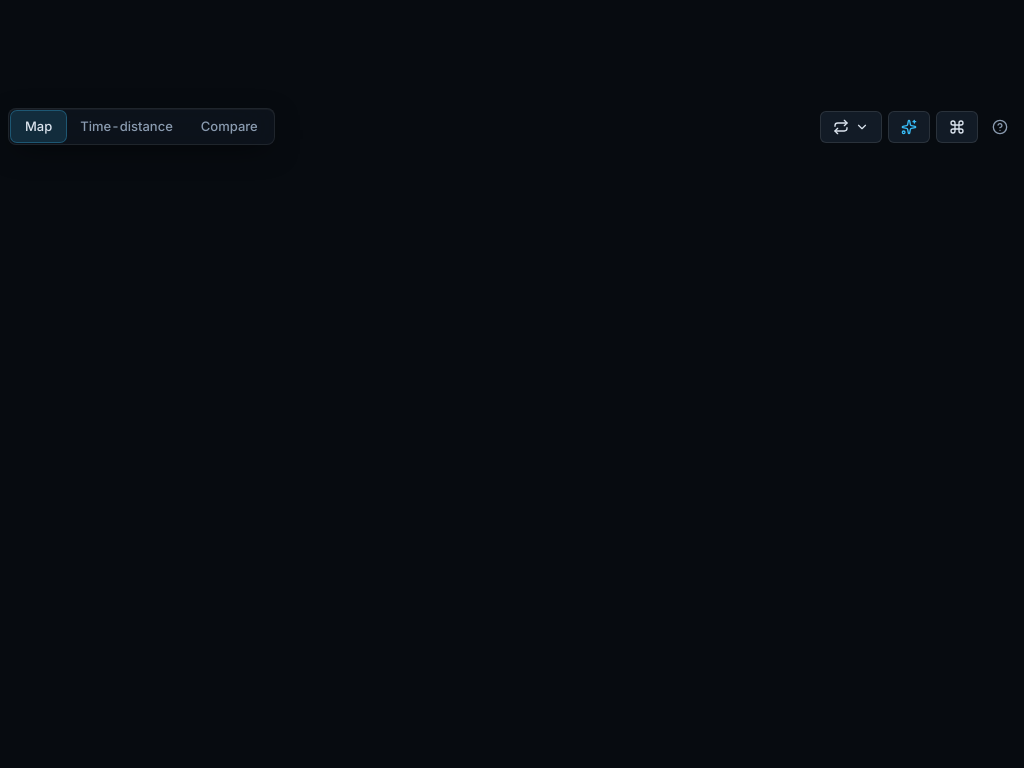
compare tab › shows a progress state while the backend is still computing
Click the tab "Compare": point(229, 126) [187,111,272,142]
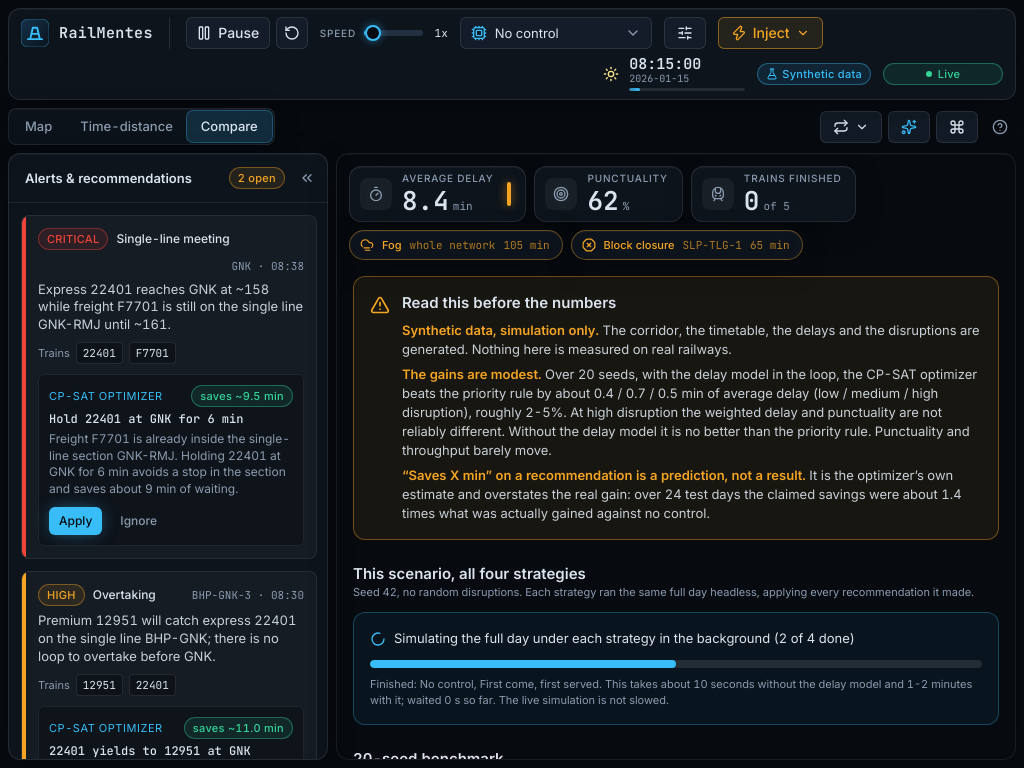
Now the text "2 of 4 done" is shown, box [370,630,855,646]
